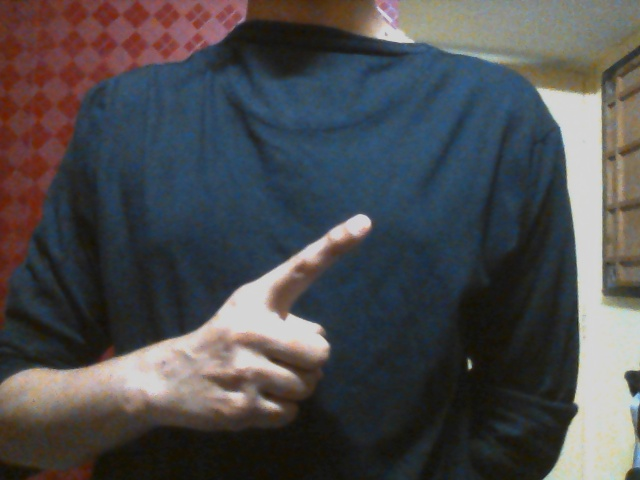I: (177, 212, 376, 434)
